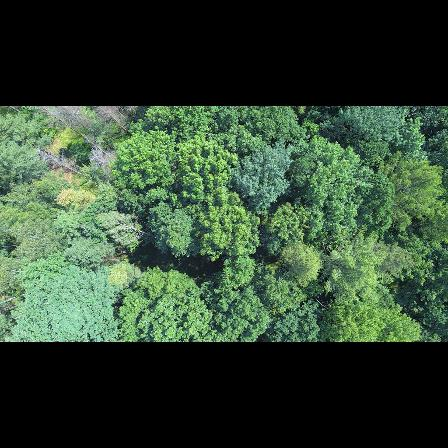Dead: (41, 152, 88, 179), (116, 217, 159, 245), (44, 108, 87, 136), (74, 130, 112, 156), (102, 107, 133, 134), (90, 154, 117, 172)
